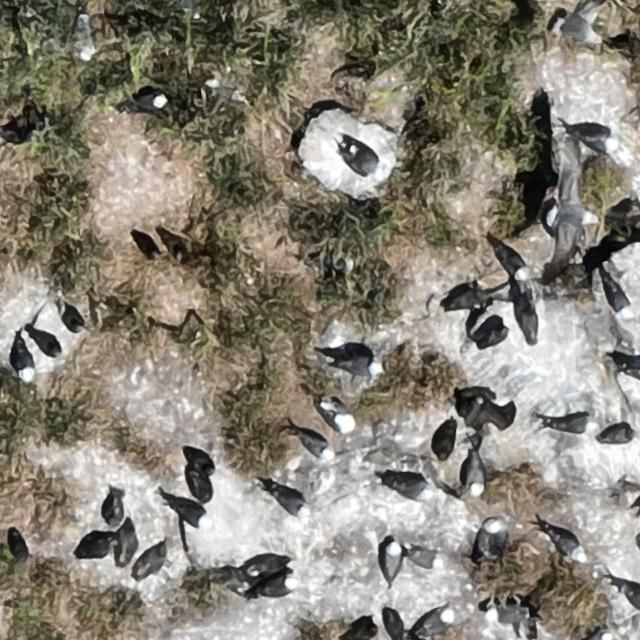F: (540, 143, 596, 263)
umineko: (603, 271, 633, 319), (404, 538, 446, 572), (476, 513, 504, 564), (319, 396, 358, 431), (78, 9, 96, 64), (484, 606, 537, 624), (388, 478, 432, 499), (253, 576, 295, 597), (274, 492, 308, 517), (174, 504, 210, 527), (418, 608, 454, 631), (341, 357, 384, 376), (552, 533, 582, 559), (300, 436, 330, 459), (349, 145, 374, 172), (385, 542, 403, 578), (557, 416, 597, 432), (503, 251, 526, 278), (16, 349, 34, 382), (577, 132, 610, 150), (210, 82, 243, 100), (468, 462, 485, 496), (128, 94, 164, 110), (623, 588, 640, 612)
